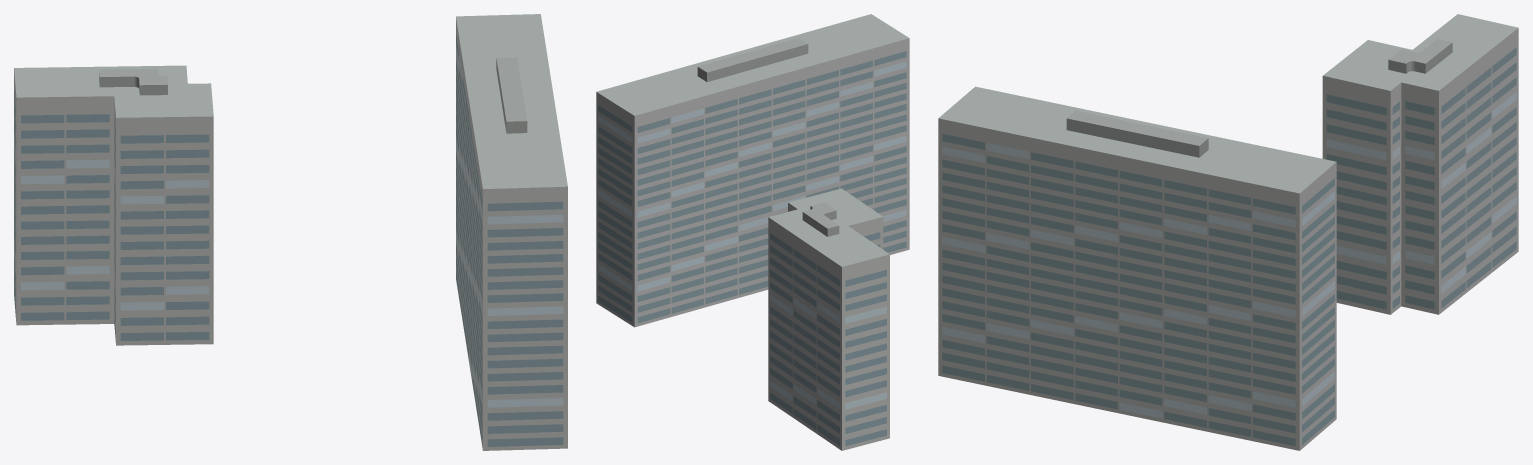
Rendered from apt-a13804002.glb.
The picture shows the model from 3 angles, left to right: view 1: azimuth 30°, elevation 25°; view 2: azimuth 150°, elevation 25°; view 3: azimuth 270°, elevation 25°; orthographic projection. The views are drawn at different scales.
Parts seen in each view (by area): view 1: apt-a13804002; view 2: apt-a13804002; view 3: apt-a13804002.
Part boxes in pixels (x1,y1,x2,y2): apt-a13804002: [14, 14, 567, 450]; apt-a13804002: [596, 14, 909, 450]; apt-a13804002: [938, 14, 1518, 450].
Bounding box in the file's own units: 93.34 × 55 × 107.
